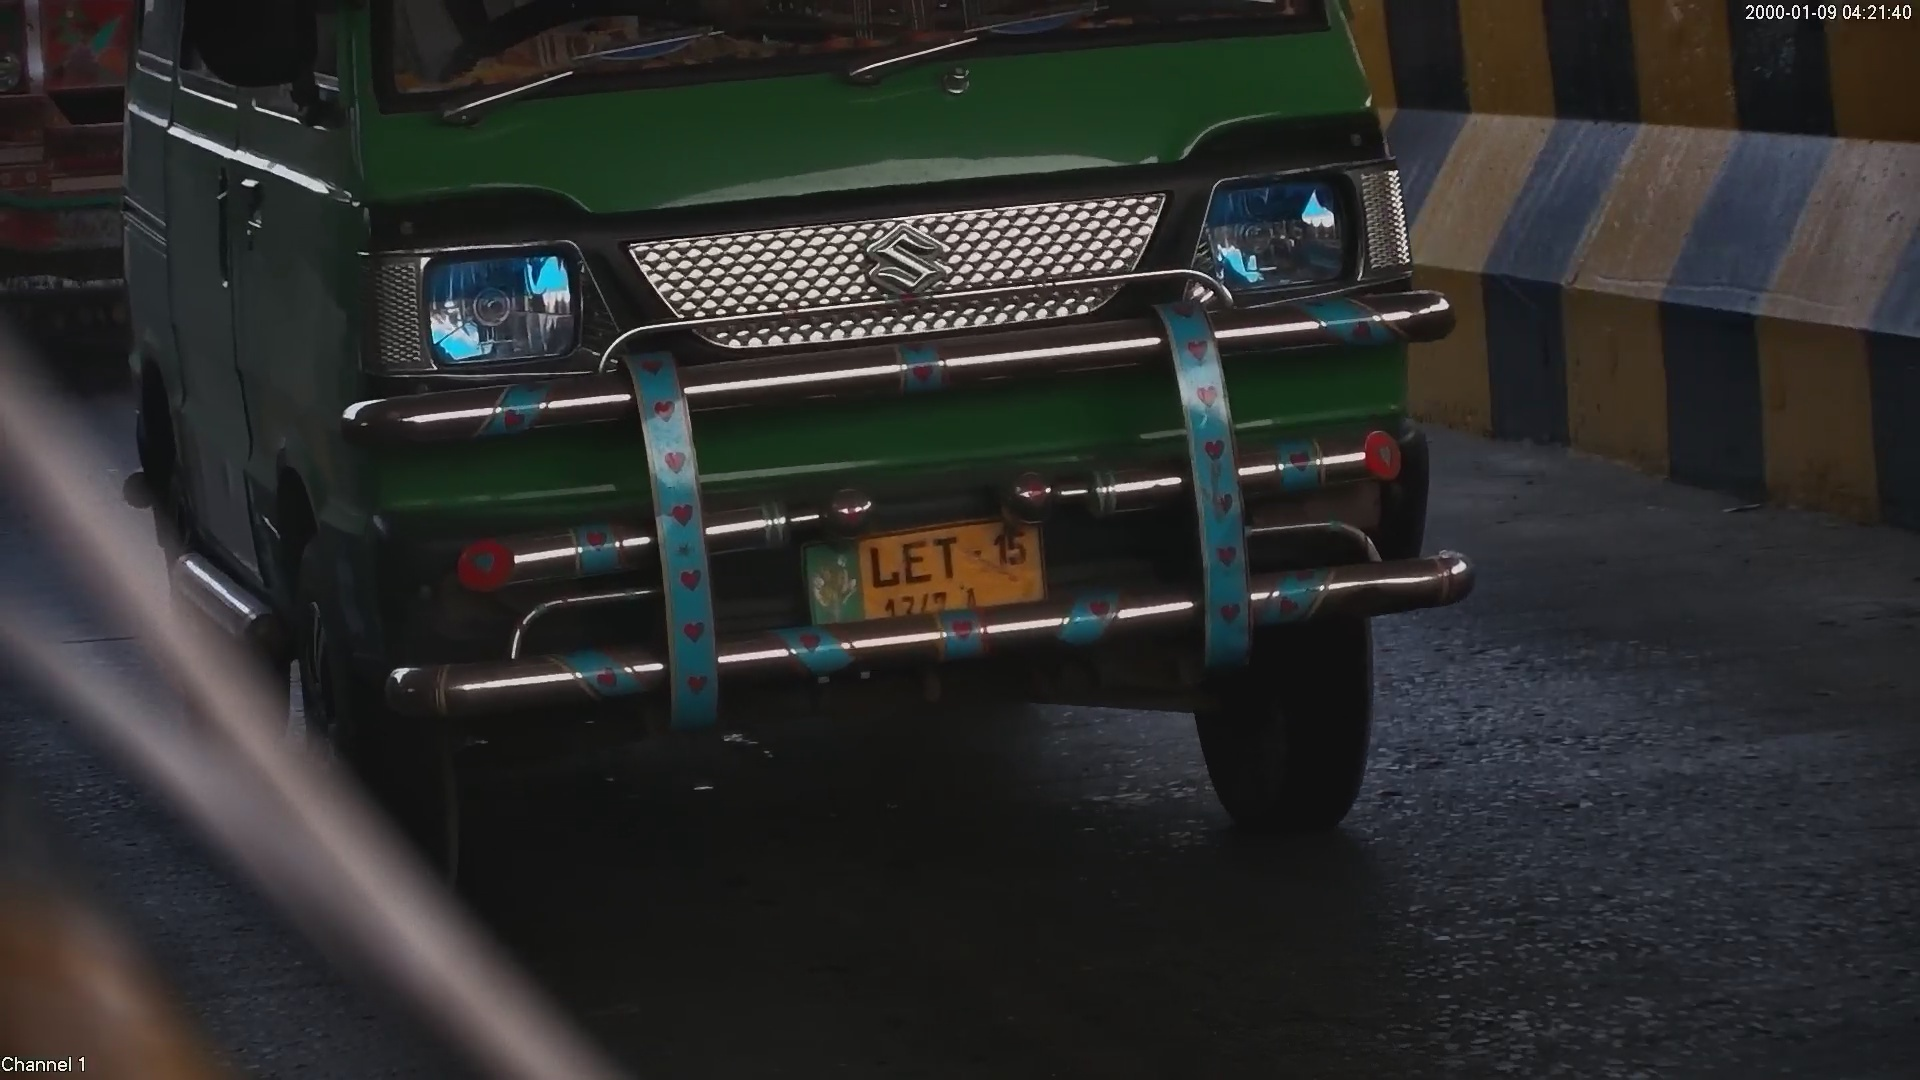Number_Plate: (771, 490, 1087, 657)
Undefined: (1184, 140, 1419, 325), (334, 223, 604, 381), (819, 220, 987, 331)
